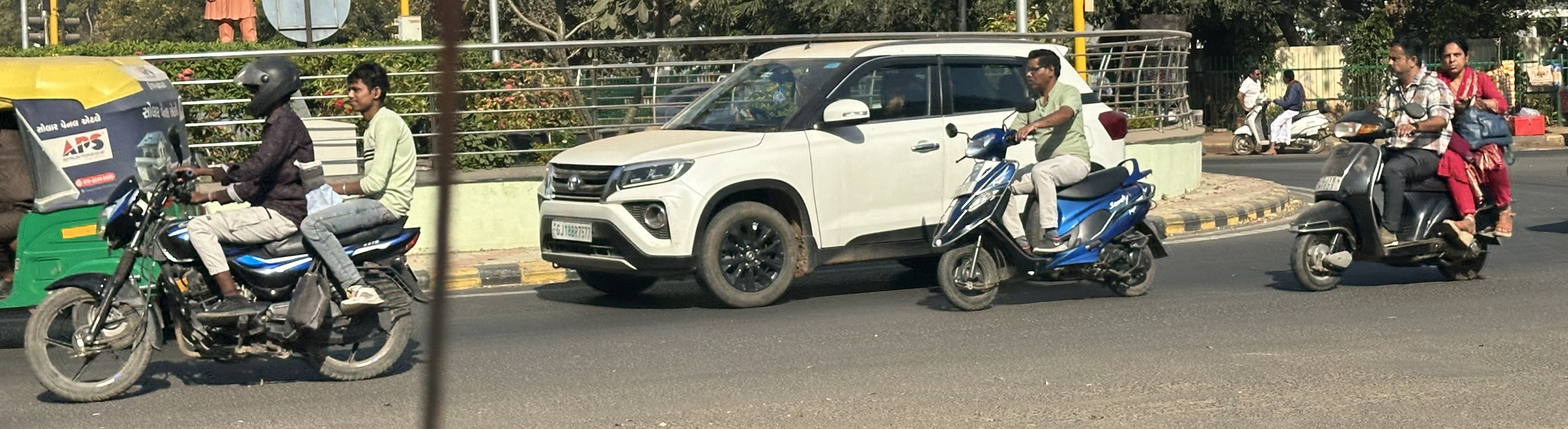BikeWithRider: (17, 49, 439, 409), (919, 41, 1183, 315), (1276, 30, 1523, 297)
Helmet: (226, 50, 311, 122)
NoHelmet: (336, 57, 397, 118), (1018, 45, 1069, 100), (1432, 35, 1475, 75), (1382, 39, 1418, 75)
